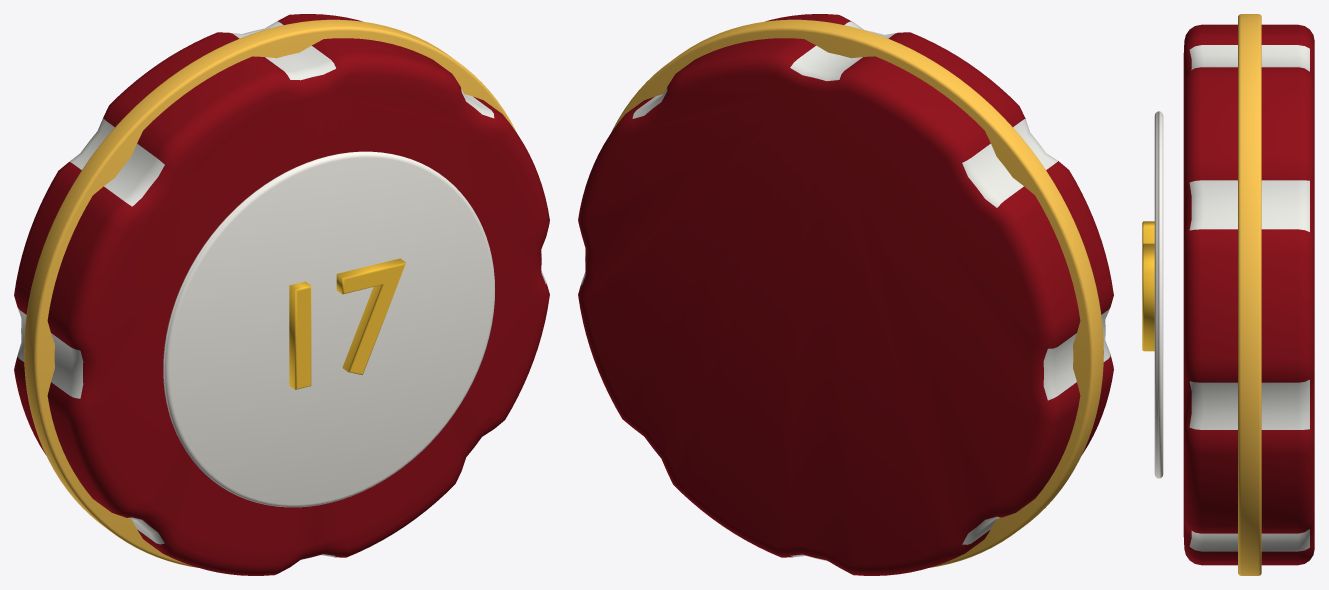
File: chip.obj
The picture shows the model from 3 angles, left to right: view 1: azimuth 30°, elevation 25°; view 2: azimuth 150°, elevation 25°; view 3: azimuth 270°, elevation 25°; orthographic projection. The views are drawn at different scales.
Visible parts, largest first — view 1: Body_bond, Inlay_bond, Band_bond, Text_bond; view 2: Body_bond, Band_bond; view 3: Body_bond, Band_bond, Inlay_bond, Text_bond.
Boxes of the visible parts, x1,y1,x2,y2 form: Body_bond: (14,14,549,575); Inlay_bond: (163,151,494,507); Band_bond: (24,19,516,567); Text_bond: (289,258,405,389); Body_bond: (578,14,1113,575); Band_bond: (611,19,1103,567); Body_bond: (1183,24,1314,565); Band_bond: (1238,14,1261,575); Inlay_bond: (1154,111,1163,478); Text_bond: (1142,221,1154,351).
Size of the model in its own units: 0.052 by 0.052 by 0.0159.
